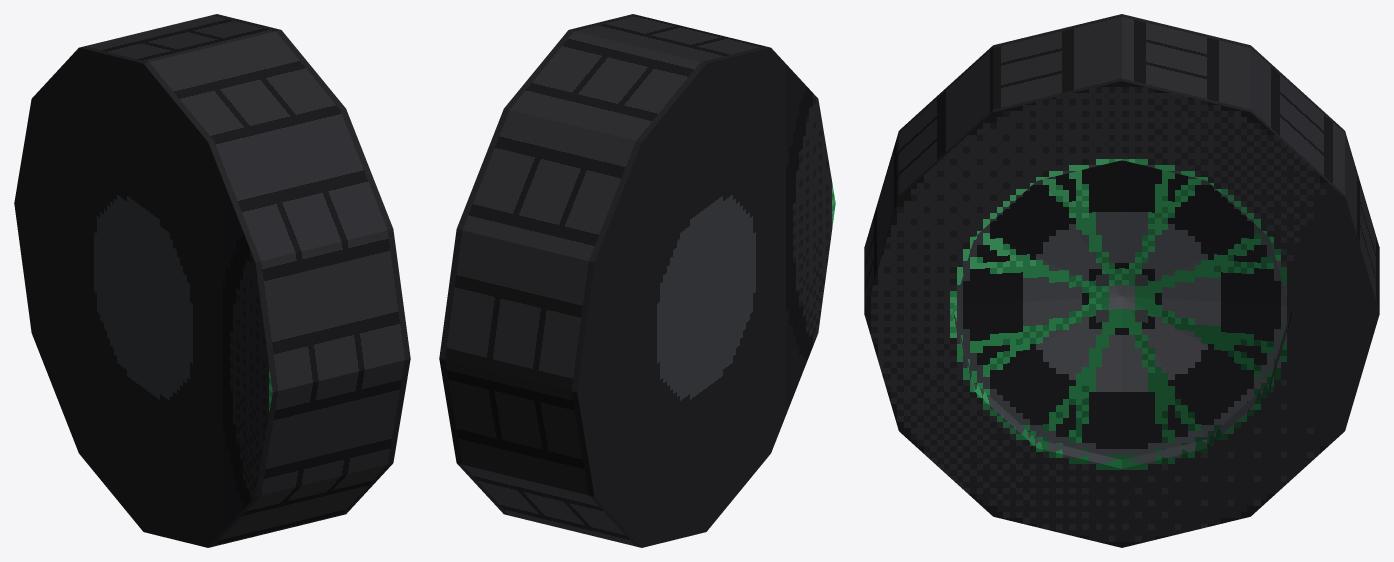
File: wheel_eight.glb
The picture shows the model from 3 angles, left to right: view 1: azimuth 30°, elevation 25°; view 2: azimuth 150°, elevation 25°; view 3: azimuth 270°, elevation 25°; orthographic projection.
Visible parts, largest first — view 1: wheel_eight; view 2: wheel_eight; view 3: wheel_eight.
Boxes of the visible parts, x1,y1,x2,y2 form: wheel_eight: (14, 14, 410, 547); wheel_eight: (439, 14, 835, 547); wheel_eight: (864, 14, 1379, 547).
Size of the model in its own units: 0.225 by 0.7301 by 0.7301.
Materials: 1 (1 with a texture image).
